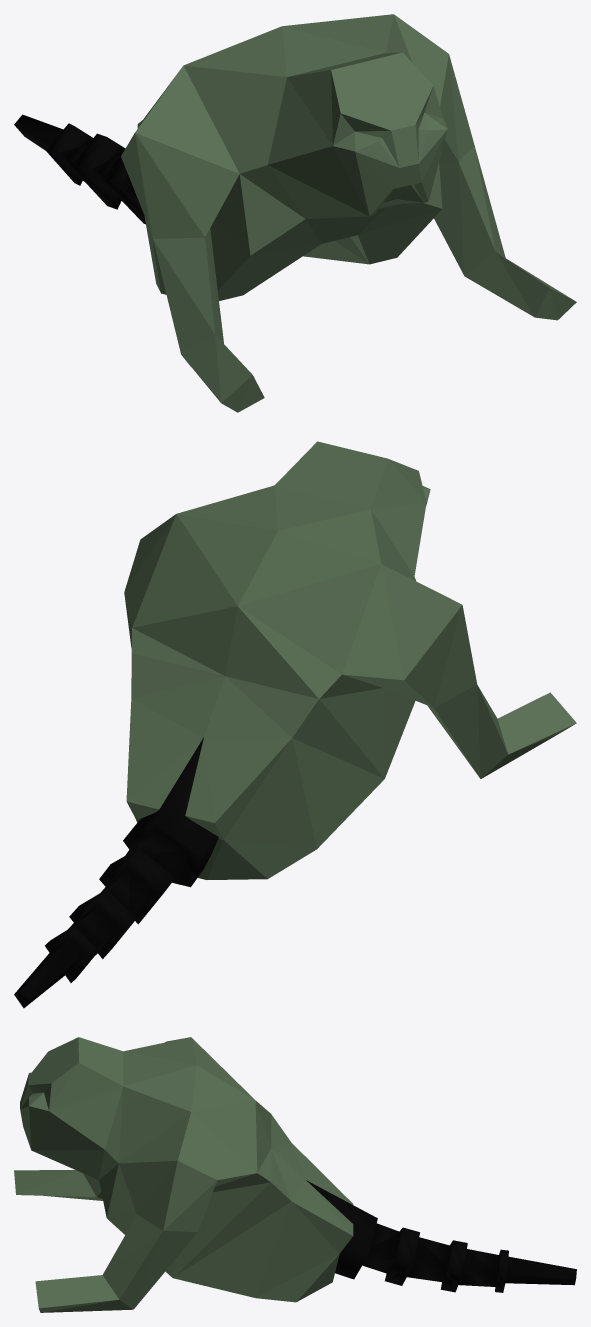
The model's file is snaketry.obj.
3 views of the same model, one above another, from view 1: azimuth 30°, elevation 25°; view 2: azimuth 150°, elevation 25°; view 3: azimuth 270°, elevation 25° (orthographic). The views are drawn at different scales.
Parts seen in each view (by area): view 1: Box001, Object001; view 2: Box001, Object001; view 3: Box001, Object001.
Part boxes in pixels (x1,y1,x2,y2): Box001: (121,14,576,412); Object001: (14,114,145,224); Box001: (124,441,576,879); Object001: (14,737,218,1008); Box001: (14,1037,353,1312); Object001: (306,1180,576,1292).
Bounding box in the file's own units: 65.93 × 56.79 × 119.
